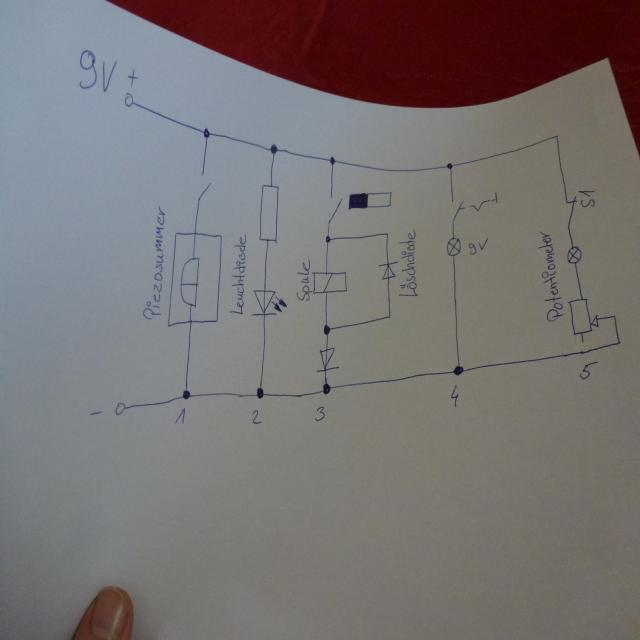diode: (251, 286, 287, 316), (316, 346, 338, 372), (377, 260, 399, 281)
inductor: (311, 270, 348, 294)
junction: (452, 362, 465, 377), (320, 380, 332, 395), (268, 142, 279, 156), (180, 387, 191, 400), (255, 385, 264, 399), (202, 126, 212, 138), (322, 322, 331, 335), (323, 232, 332, 244), (328, 154, 336, 166), (446, 160, 454, 171), (553, 131, 560, 140), (386, 312, 392, 320), (384, 228, 389, 236), (616, 338, 621, 346), (611, 312, 616, 318)
resistor: (566, 295, 600, 343), (258, 183, 279, 242)
switch: (450, 190, 499, 223), (327, 195, 343, 223), (194, 178, 211, 204), (563, 195, 577, 226)
terminal: (120, 90, 136, 110), (113, 400, 127, 416)
text: (71, 47, 137, 99), (140, 203, 167, 320), (536, 226, 564, 322), (228, 230, 247, 315), (398, 228, 418, 299), (294, 259, 310, 302), (467, 237, 489, 255), (577, 189, 595, 207), (578, 360, 594, 380), (449, 383, 461, 408), (173, 407, 186, 425), (250, 408, 261, 424), (314, 404, 324, 421)
